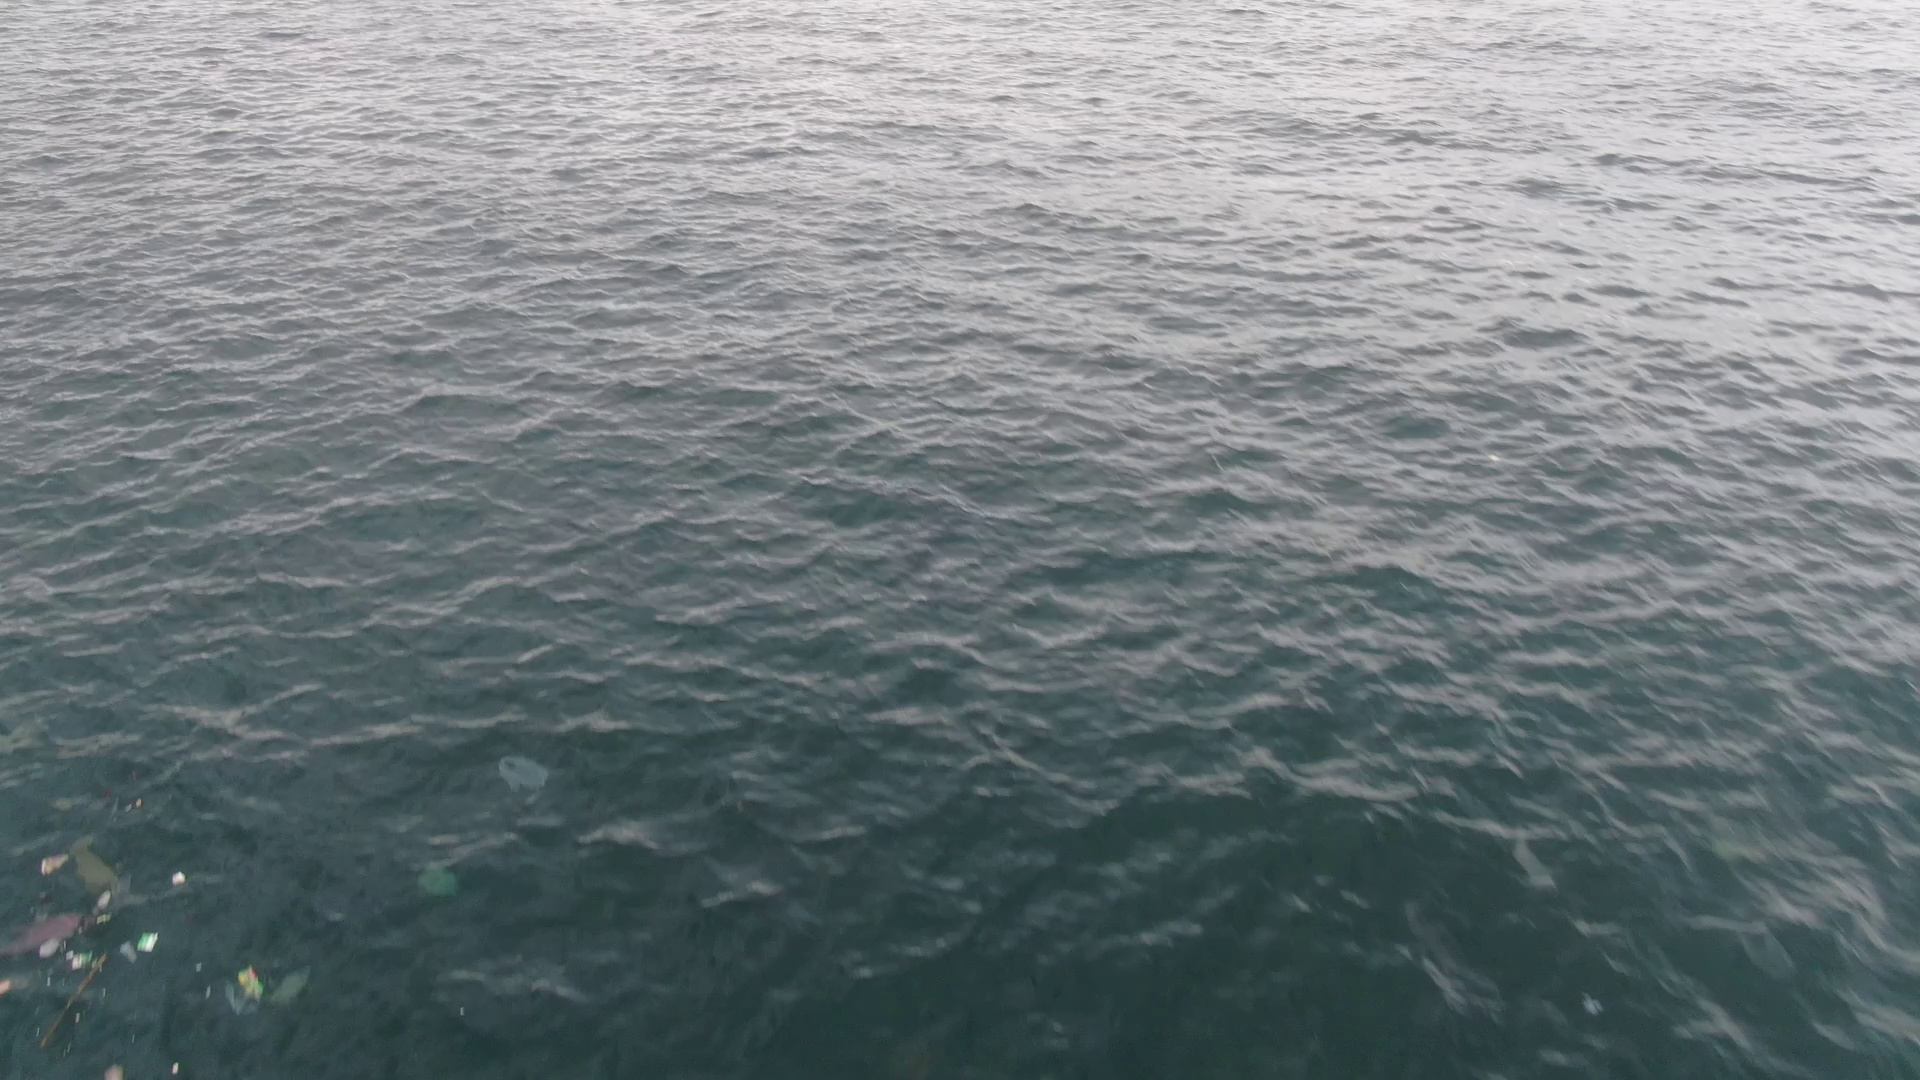garbage: (1, 841, 156, 967), (32, 953, 105, 1050), (232, 953, 272, 1019), (497, 753, 549, 795), (414, 862, 462, 903), (123, 793, 142, 814)
